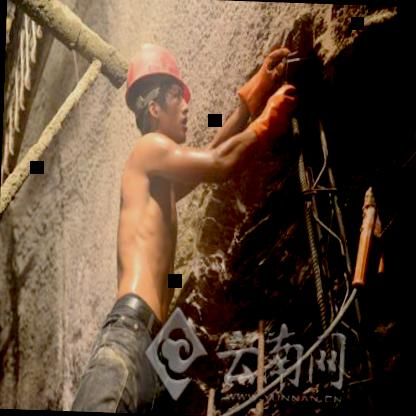helmet: (118, 32, 199, 148)
